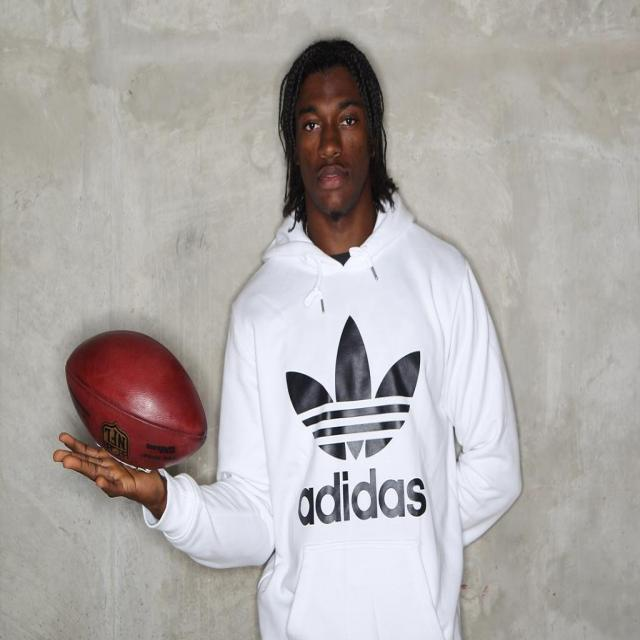nomask: (298, 70, 367, 219)
